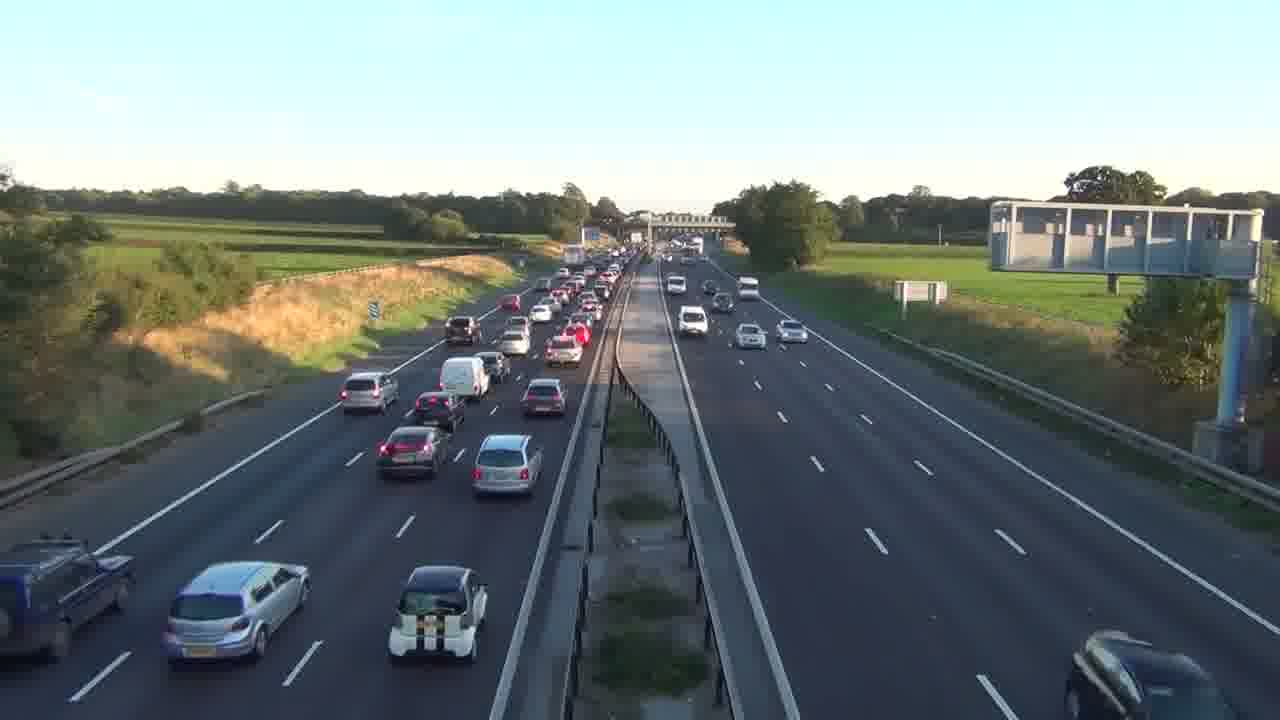car: (161, 559, 312, 665), (1063, 628, 1238, 719), (387, 563, 490, 663), (470, 432, 545, 498), (375, 425, 442, 481), (520, 378, 565, 418), (734, 323, 768, 351)
truck: (0, 537, 137, 663), (438, 356, 490, 399)
